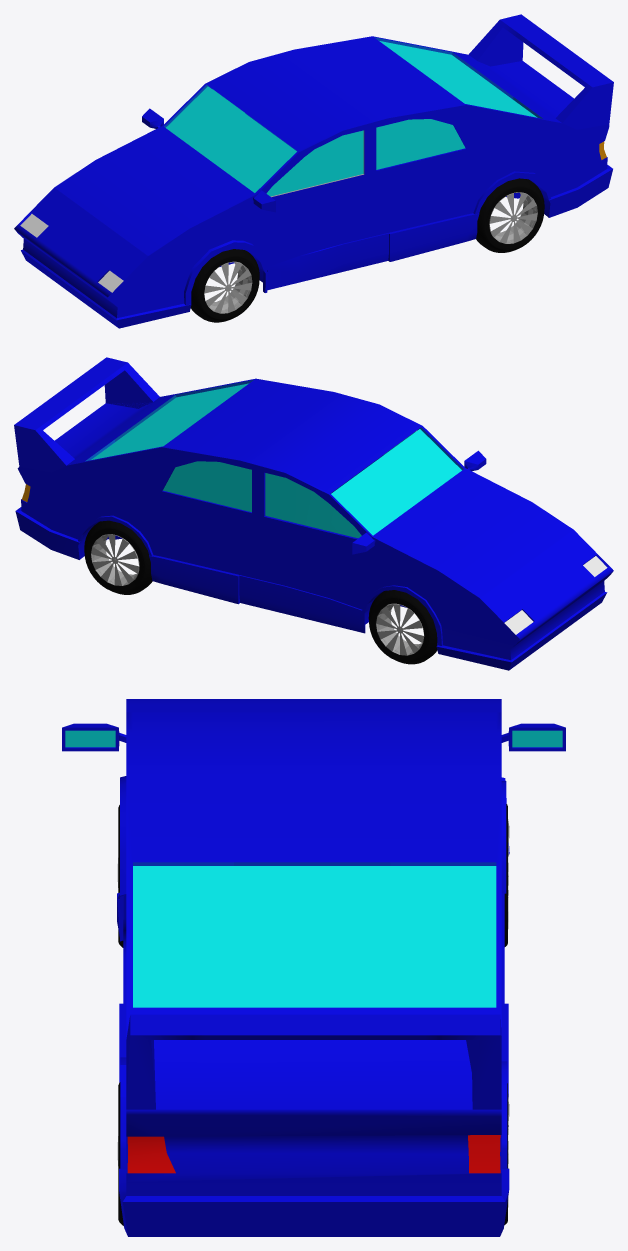
The model's file is car-beta.fbx.
3 renders of one model, top to bottom at view 1: azimuth 30°, elevation 25°; view 2: azimuth 150°, elevation 25°; view 3: azimuth 270°, elevation 25°, orthographic. The views are drawn at different scales.
Visible parts, largest first — view 1: body, frontLeft, backLeft, pCylinder9, pCylinder10, pCube21; view 2: body, frontRight, backRight, pCylinder12, pCylinder11, pCube21; view 3: body, pCube21.
Part boxes in pixels (x1,y1,x2,y2): body: [14, 14, 613, 328]; frontLeft: [191, 249, 259, 322]; backLeft: [476, 178, 544, 252]; pCylinder9: [489, 192, 537, 243]; pCylinder10: [204, 261, 252, 313]; pCube21: [142, 108, 275, 212]; body: [14, 357, 613, 670]; frontRight: [368, 590, 437, 664]; backRight: [84, 520, 152, 594]; pCylinder12: [91, 534, 139, 585]; pCylinder11: [376, 603, 424, 655]; pCube21: [352, 450, 486, 554]; body: [117, 699, 509, 1236]; pCube21: [62, 723, 565, 751].
Bounding box in the file's own units: 5.78 × 1.8 × 2.49.
